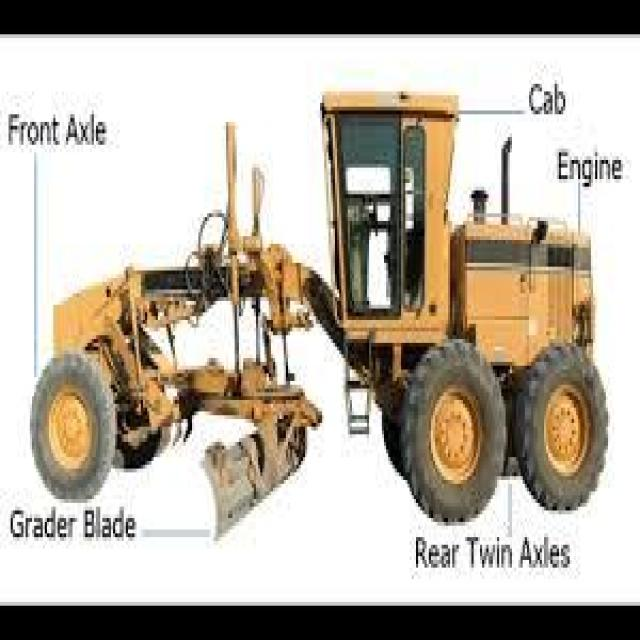buldozerpayloadergrader: (17, 61, 604, 560)
